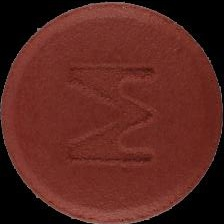0378-5121: (0, 0, 224, 224)
